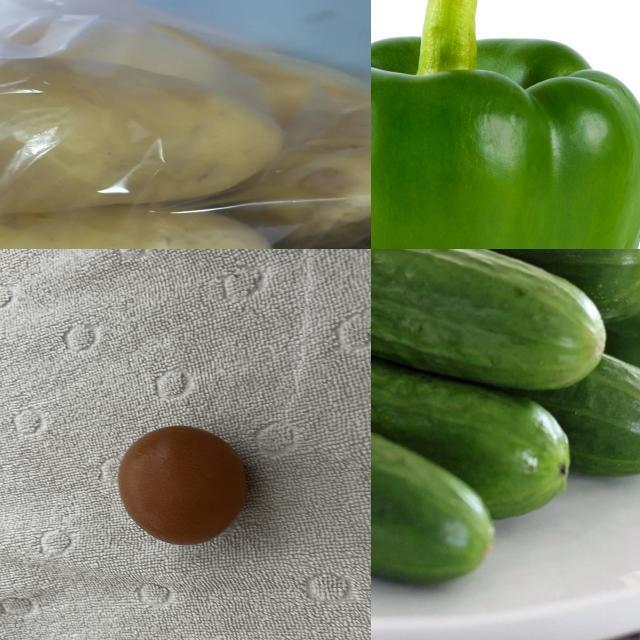bell_pepper: (372, 1, 640, 250)
cucumber: (372, 280, 576, 524), (372, 325, 500, 595), (372, 250, 614, 390)
egg: (113, 425, 253, 551)
potato: (1, 16, 372, 227), (1, 51, 284, 208), (1, 187, 281, 250)
